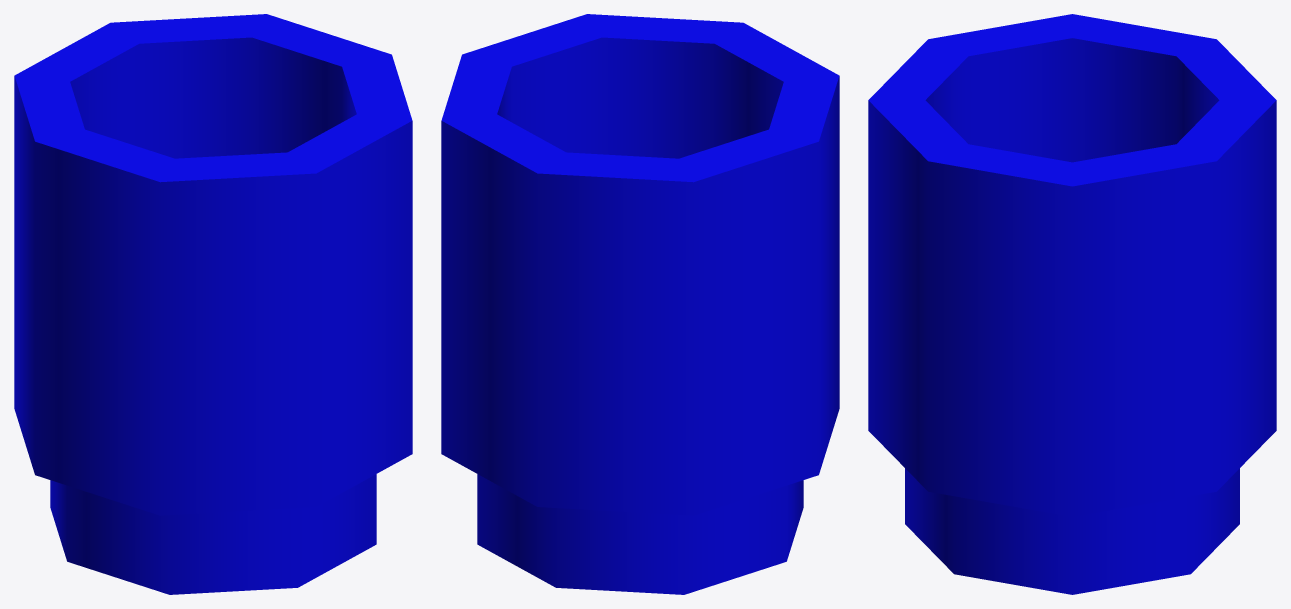
File: CastingRoom_SmallCrucible.fbx
The picture shows the model from 3 angles, left to right: view 1: azimuth 30°, elevation 25°; view 2: azimuth 150°, elevation 25°; view 3: azimuth 270°, elevation 25°; orthographic projection.
Parts seen in each view (by area): view 1: CastingRoom_SmallCrucible; view 2: CastingRoom_SmallCrucible; view 3: CastingRoom_SmallCrucible.
Boxes of the visible parts, <box> form: CastingRoom_SmallCrucible: <box>14,14,412,594</box>; CastingRoom_SmallCrucible: <box>441,14,839,594</box>; CastingRoom_SmallCrucible: <box>868,14,1276,594</box>.
Bounding box in the file's own units: 156 × 179 × 156.
